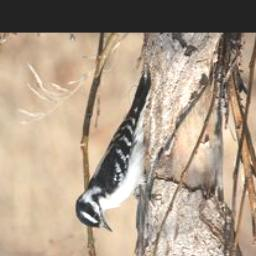Woodpecker: (74, 67, 162, 233)
